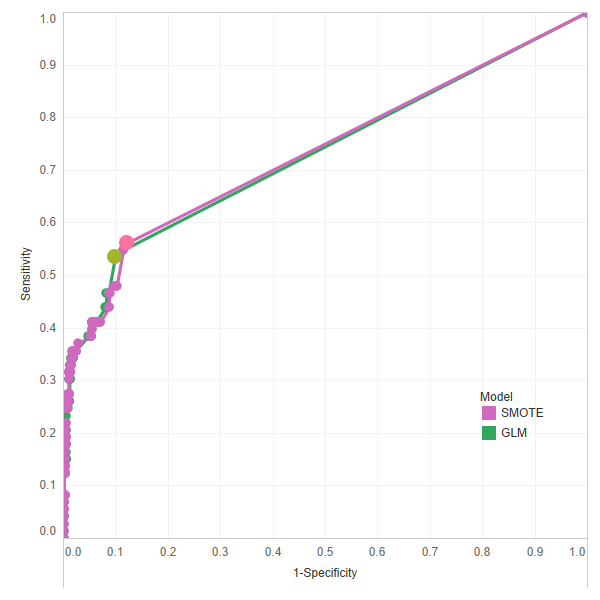

This screenshot's page, from the dashboard's own definition file:
{"tool":"tableau","page":{"name":"ROC Dashboard","canvas":[600,600],"ordinal":7},"visuals":[{"type":"worksheet","title":"ROC Curves","mark":"Line","rows":["sensitivity"],"cols":["1-specificity","1-specificity"],"box":[8,8,584,584]},{"type":"legend","title":"ROC Curves","param":"[federated.0yji1py00bsk8u17dxezr1am7r4p].[none:model:nk]","box":[479.3,387.6,108,109.2]}]}

Visuals, with their boxes in screenshot pixels (x1, y1, x2, y2), scaled from the page's 600x600 canvas onto the 600x600 screenshot:
"ROC Curves" worksheet (Line marks): (8,8,592,592)
"ROC Curves" legend: (479,388,587,497)
